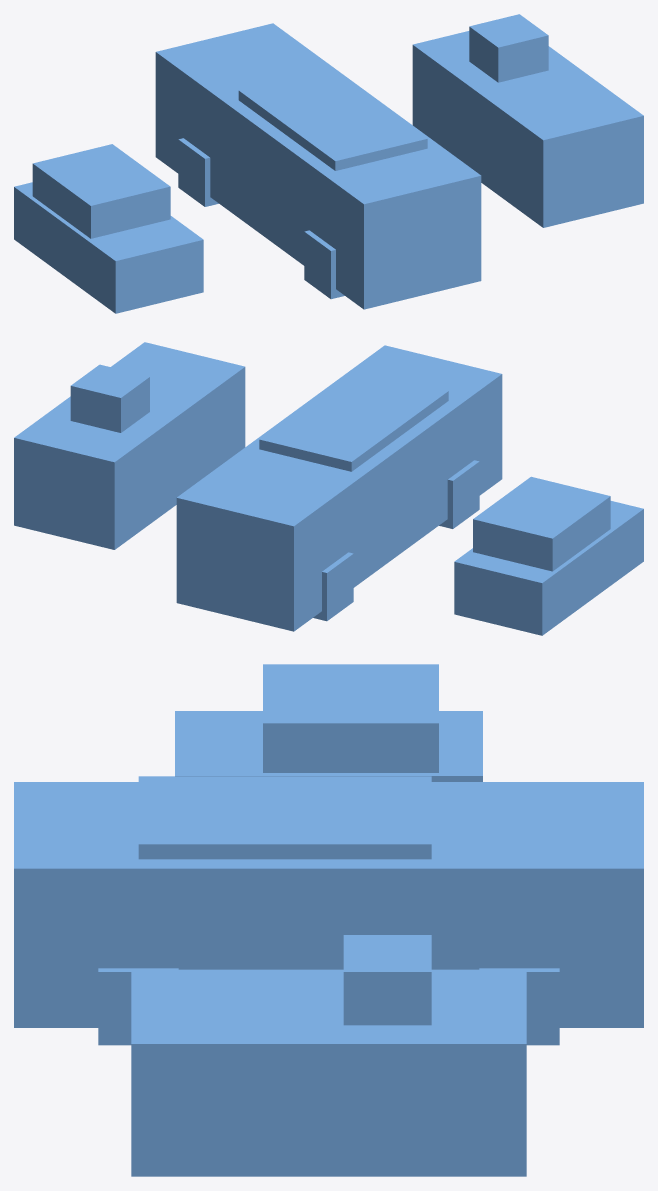
File: sm_vehicle_pack.glb
3 renders of one model, top to bottom at view 1: azimuth 30°, elevation 25°; view 2: azimuth 150°, elevation 25°; view 3: azimuth 270°, elevation 25°, orthographic. The views are drawn at different scales.
Visible parts, largest first — view 1: VehiclePack; view 2: VehiclePack; view 3: VehiclePack.
Part boxes in pixels (x1,y1,x2,y2): VehiclePack: (14, 14, 643, 313); VehiclePack: (14, 342, 643, 635); VehiclePack: (14, 664, 643, 1176).
Size of the model in its own units: 12.25 by 3 by 8.6.
